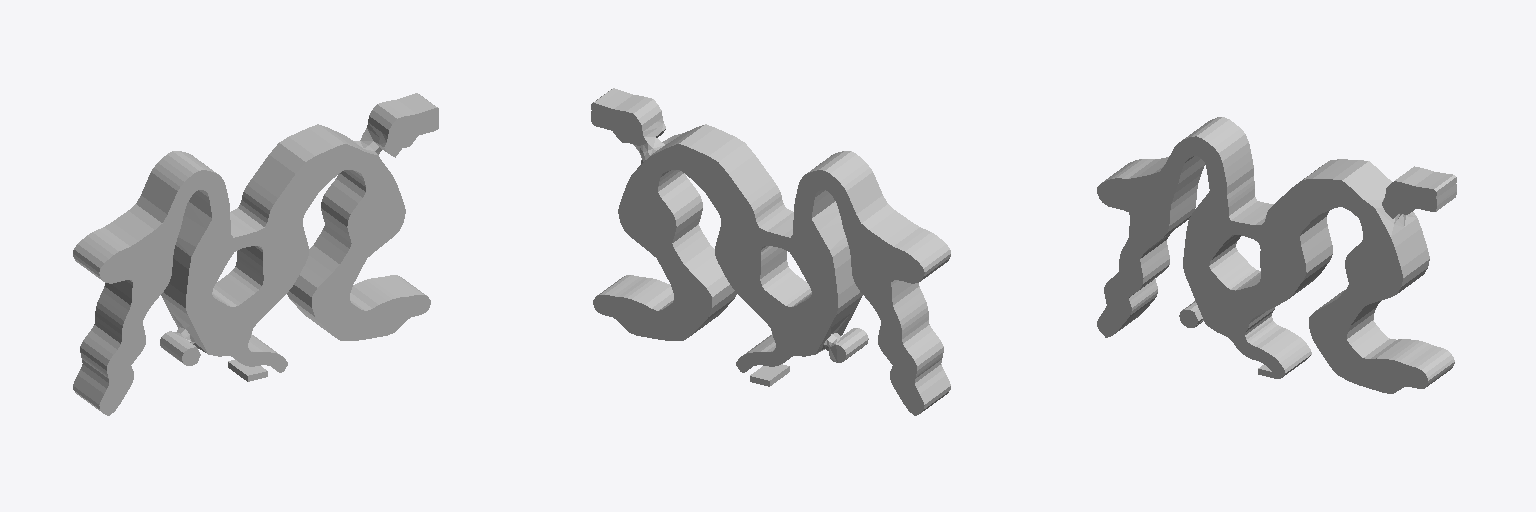
3 renders of one model, left to right at view 1: azimuth 30°, elevation 25°; view 2: azimuth 150°, elevation 25°; view 3: azimuth 330°, elevation 25°, orthographic.
Visible parts, largest first — view 1: World.MeshShape; view 2: World.MeshShape, DeliveryZone.BoxShape; view 3: World.MeshShape.
Part boxes in pixels (bbox=[...]): World.MeshShape: bbox=[73, 93, 438, 415]; World.MeshShape: bbox=[591, 88, 950, 415]; DeliveryZone.BoxShape: bbox=[750, 364, 789, 386]; World.MeshShape: bbox=[1097, 117, 1456, 393].
Bounding box in the file's own units: 58.84 × 38.83 × 8.